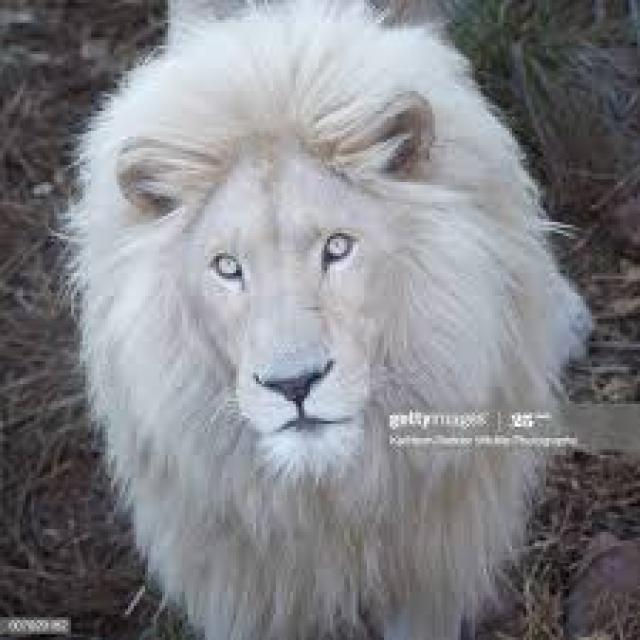Lion: (84, 4, 575, 637)
